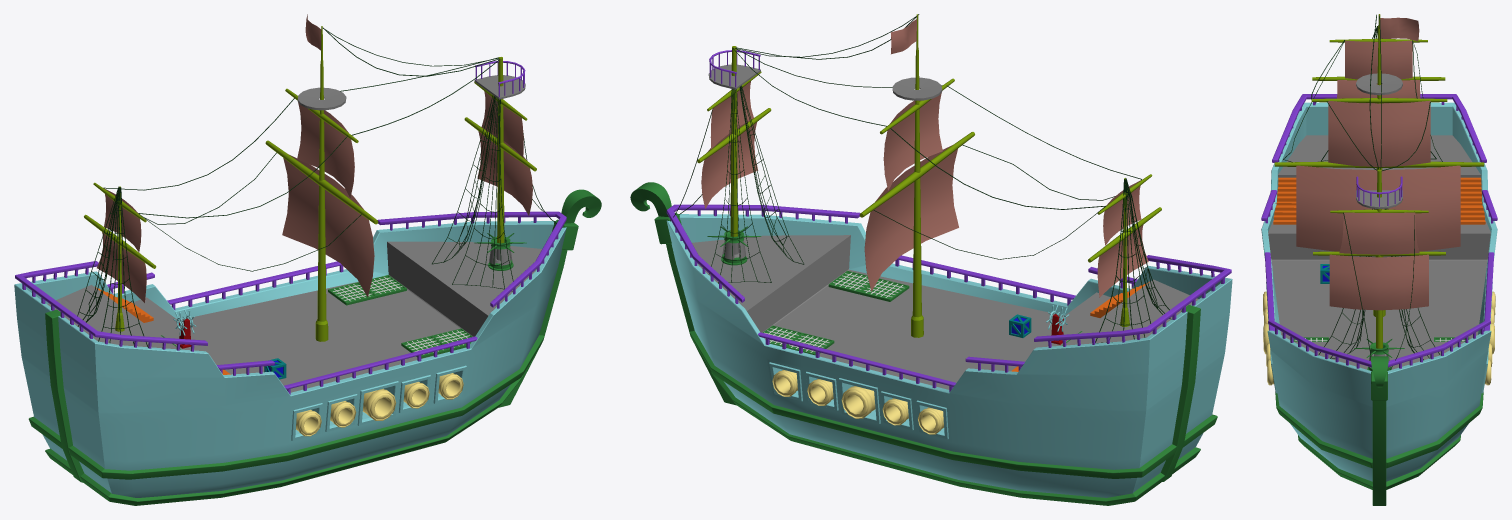
File: Ship.fbx
3 views of the same model, side by side, from view 1: azimuth 30°, elevation 25°; view 2: azimuth 150°, elevation 25°; view 3: azimuth 270°, elevation 25° (orthographic). The views are drawn at different scales.
Visible parts, largest first — view 1: Cylinder053, Object369, Object371, Plane004, Object366, Object367, Object346, Plane002, Object336, Object330, Object334, Object340 (+16 smaller); view 2: Cylinder053, Object369, Object371, Plane004, Object366, Object367, Object346, Plane002, Object336, Object330, Object334, Object340 (+15 smaller); view 3: Cylinder053, Object369, Plane004, Plane002, Plane005, Plane003, Object370, Object336, Plane007, Object324, Object366, Object371 (+24 smaller).
Part boxes in pixels (bbox=[...]): Cylinder053: bbox=[14, 221, 566, 497]; Object369: bbox=[179, 281, 460, 392]; Object371: bbox=[387, 241, 541, 336]; Plane004: bbox=[282, 154, 374, 297]; Object366: bbox=[28, 335, 544, 479]; Object367: bbox=[45, 375, 523, 505]; Object346: bbox=[45, 221, 567, 482]; Plane002: bbox=[297, 102, 354, 198]; Object336: bbox=[47, 285, 176, 349]; Object330: bbox=[167, 261, 477, 394]; Object334: bbox=[15, 261, 207, 351]; Object340: bbox=[377, 211, 566, 308]; Cylinder053: bbox=[666, 214, 1232, 497]; Object369: bbox=[774, 270, 1063, 389]; Object371: bbox=[692, 235, 850, 332]; Plane004: bbox=[864, 145, 958, 291]; Object366: bbox=[689, 331, 1217, 478]; Object367: bbox=[711, 372, 1200, 505]; Object346: bbox=[666, 214, 1200, 481]; Plane002: bbox=[883, 92, 942, 190]; Object336: bbox=[1066, 279, 1198, 345]; Object330: bbox=[758, 255, 1075, 391]; Object334: bbox=[1034, 255, 1231, 347]; Object340: bbox=[666, 204, 860, 303]; Cylinder053: bbox=[1261, 102, 1497, 481]; Object369: bbox=[1271, 260, 1487, 341]; Plane004: bbox=[1296, 165, 1460, 251]; Plane002: bbox=[1328, 100, 1430, 166]; Plane005: bbox=[1329, 254, 1428, 310]; Plane003: bbox=[1339, 212, 1419, 254]; Object370: bbox=[1268, 219, 1490, 260]; Object336: bbox=[1278, 135, 1481, 177]; Plane007: bbox=[1345, 40, 1412, 79]; Object324: bbox=[1273, 177, 1485, 224]; Object366: bbox=[1275, 392, 1483, 468]; Object371: bbox=[1294, 341, 1464, 369].
Size of the model in its own units: 9402 by 3634 by 6873.
